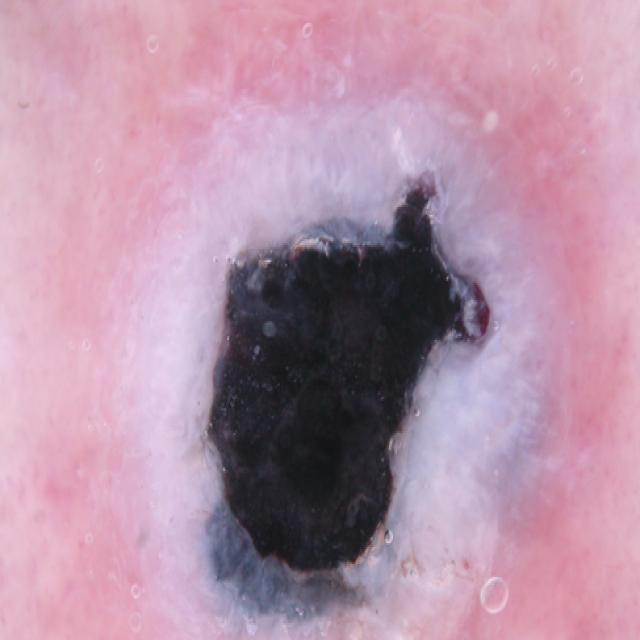Vascular Lesions: (160, 149, 559, 622)
